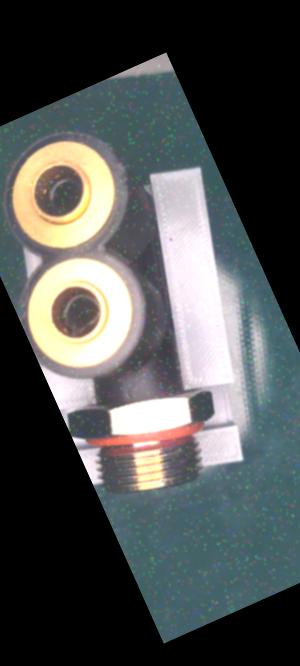off-centered: (48, 283, 110, 342)
white mark: (126, 372, 147, 393), (120, 385, 134, 404)
